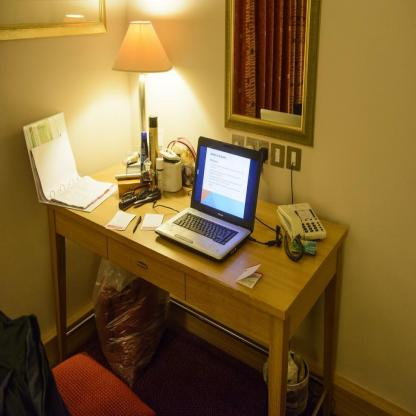board: (158, 137, 262, 266), (141, 132, 148, 172)
